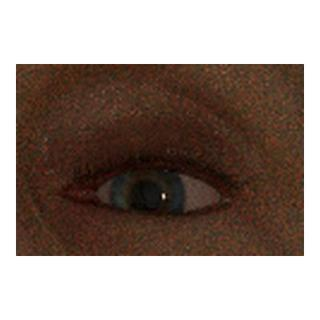pupil: (131, 183, 160, 212)
